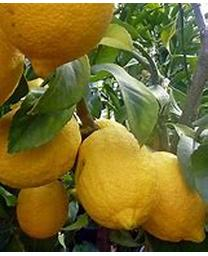lemon: (0, 0, 114, 81), (75, 128, 159, 231), (0, 108, 81, 187), (144, 151, 207, 244), (17, 176, 69, 239)
